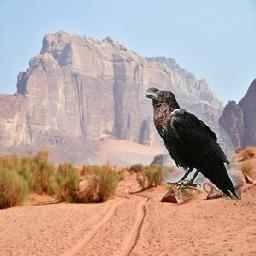Crow: (141, 86, 242, 201)
